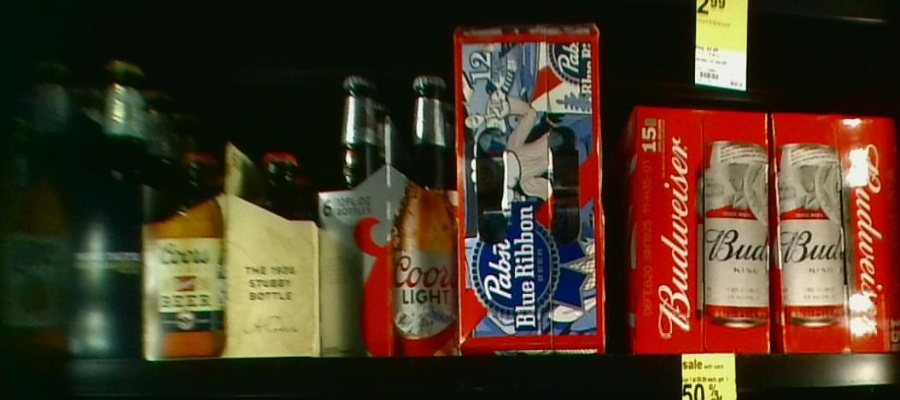bottle: (453, 24, 607, 355), (615, 108, 774, 352), (143, 140, 319, 360), (329, 74, 459, 357), (772, 110, 900, 353), (72, 54, 141, 355), (8, 57, 67, 352)
